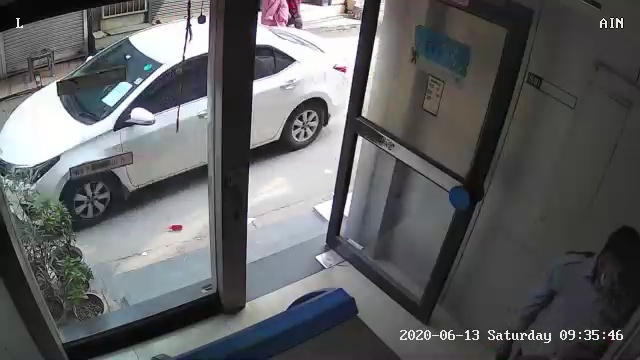open: (201, 7, 541, 333)
